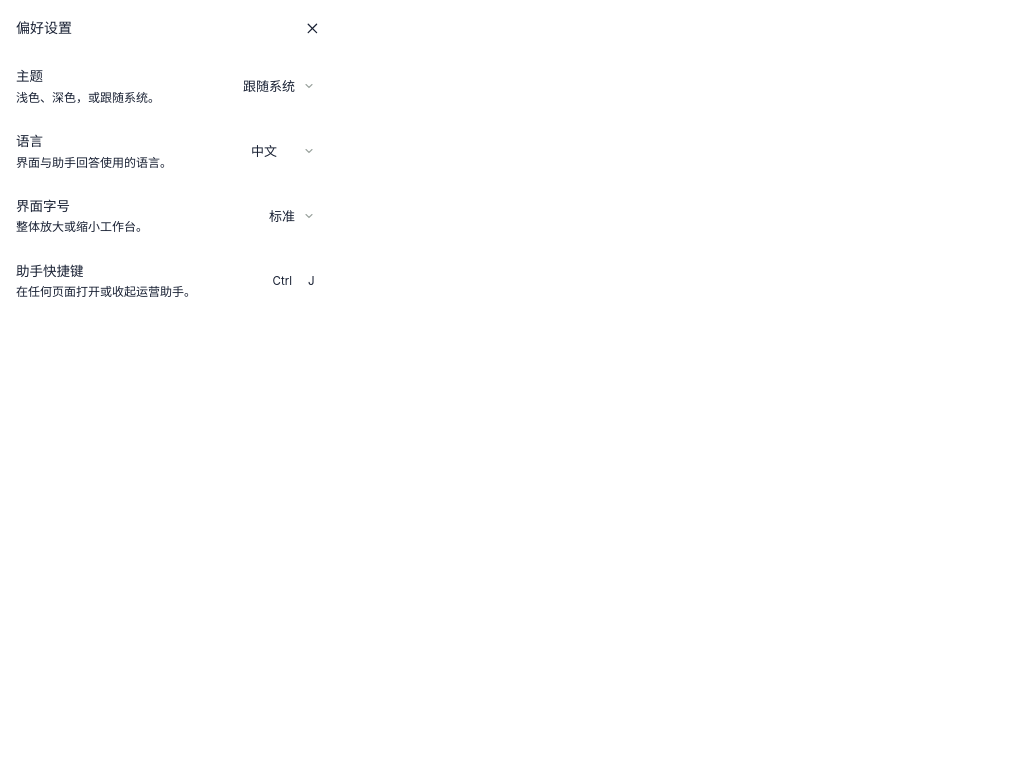
Scenario: PreferencesPanel 偏好设置 › 语言切换后面板文案随之切换
Select "English" in the dropdown named "language" next to "界面与助手回答使用的语言。" at (282, 151), box [241,135,324,167]
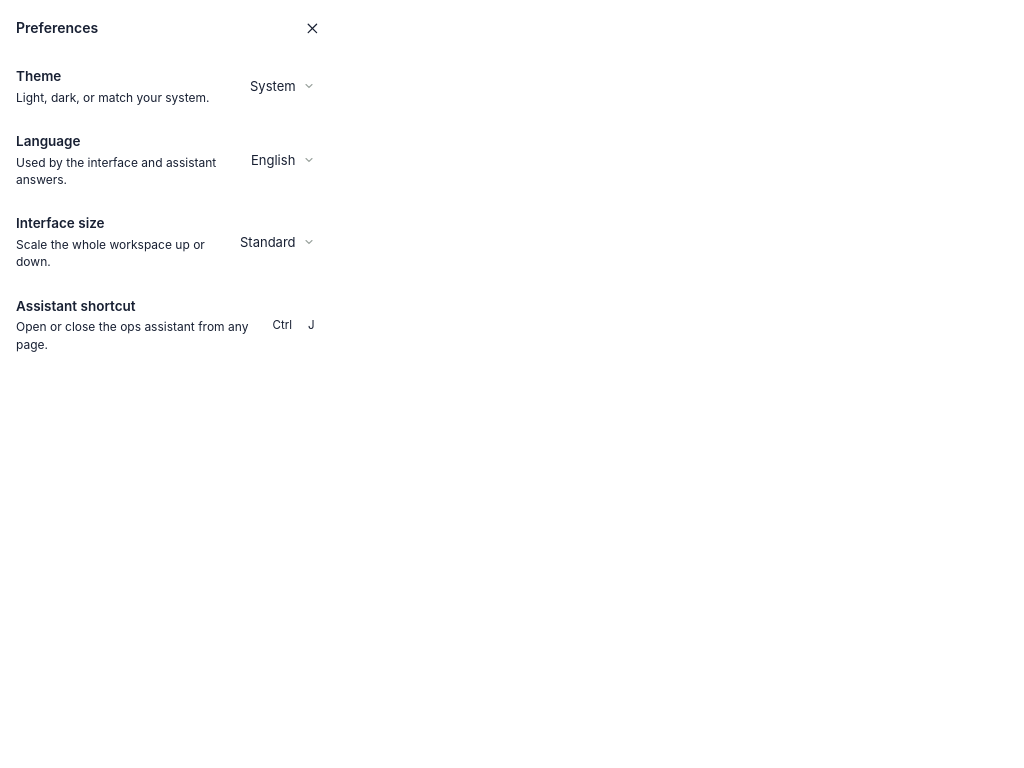
Now the text "Preferences" is shown, box [16,18,98,38]
